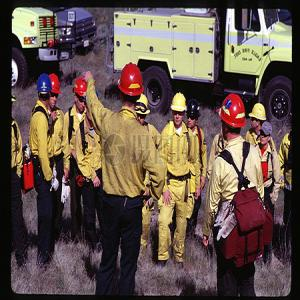blue: (36, 73, 52, 103), (260, 122, 273, 149)
red: (220, 90, 246, 142), (120, 61, 142, 107), (48, 73, 61, 109), (73, 78, 86, 112)
yellow: (171, 93, 186, 126), (251, 104, 266, 132), (136, 97, 148, 124)
